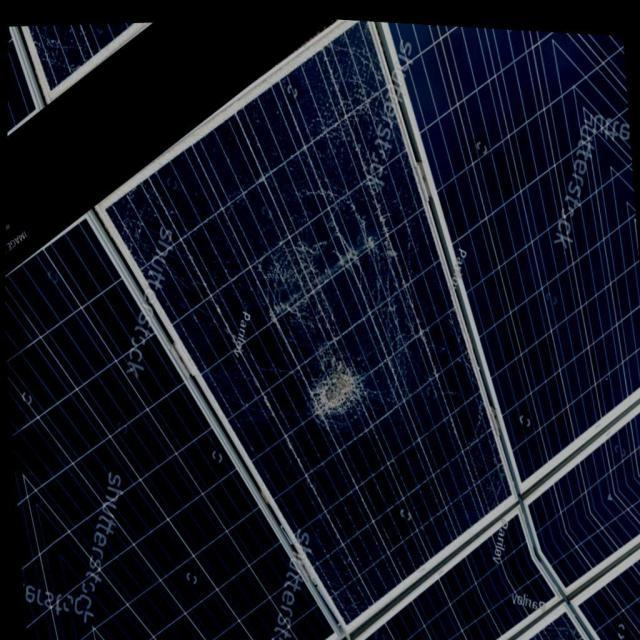cracked: (134, 18, 512, 630)
